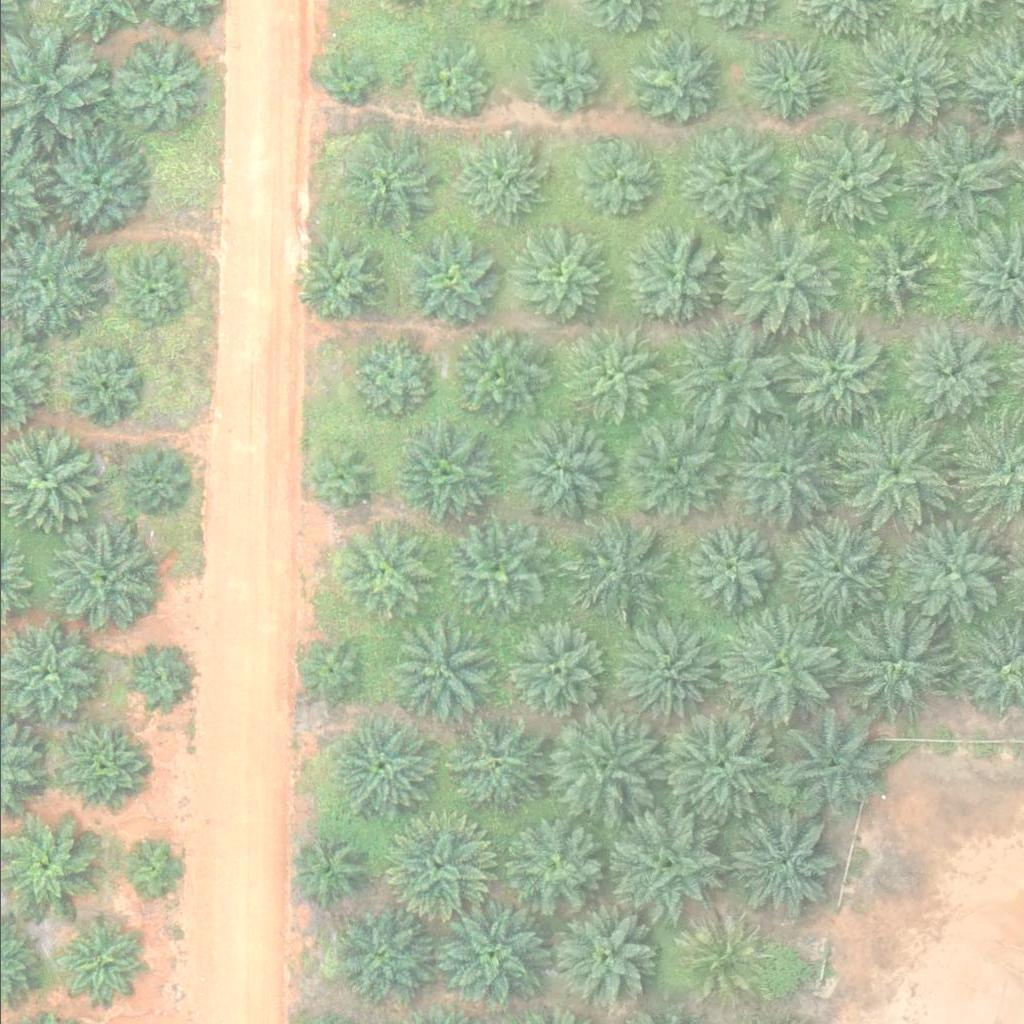Kelapa_Sawit: (724, 812, 838, 925), (608, 810, 722, 923), (773, 710, 887, 823), (436, 899, 549, 1012), (835, 415, 948, 528), (730, 414, 843, 527), (781, 317, 894, 430), (667, 710, 781, 822), (834, 613, 948, 725), (375, 812, 488, 924), (543, 707, 656, 819), (721, 610, 834, 722), (776, 514, 889, 626), (674, 323, 787, 435), (725, 221, 838, 333), (786, 120, 899, 232), (891, 516, 1004, 628), (899, 124, 1012, 236), (330, 906, 431, 1006), (439, 715, 540, 815), (332, 719, 433, 819), (616, 621, 717, 721), (503, 622, 604, 722), (394, 622, 495, 722), (571, 521, 672, 621), (445, 523, 546, 623), (333, 523, 434, 623), (621, 429, 722, 529), (513, 423, 614, 523), (391, 424, 492, 524), (564, 330, 665, 430), (447, 329, 548, 429), (622, 228, 723, 328), (506, 227, 607, 327), (678, 131, 779, 231), (856, 28, 957, 128), (54, 532, 155, 632), (550, 910, 650, 1010), (500, 816, 600, 916), (290, 230, 390, 330), (340, 136, 440, 236), (42, 131, 142, 231), (848, 231, 937, 319), (672, 915, 760, 1003), (346, 335, 434, 423), (54, 917, 142, 1005), (682, 523, 770, 610), (406, 240, 494, 327), (575, 134, 663, 221), (463, 136, 551, 223), (745, 33, 833, 120), (626, 39, 714, 126), (906, 332, 994, 419), (113, 41, 201, 128), (57, 729, 145, 816), (523, 39, 599, 114), (108, 252, 184, 327), (299, 441, 375, 516), (414, 46, 490, 121), (65, 349, 140, 424), (286, 833, 361, 908), (292, 637, 367, 712), (123, 450, 186, 513), (314, 48, 377, 110), (125, 650, 188, 712), (124, 836, 187, 898)
